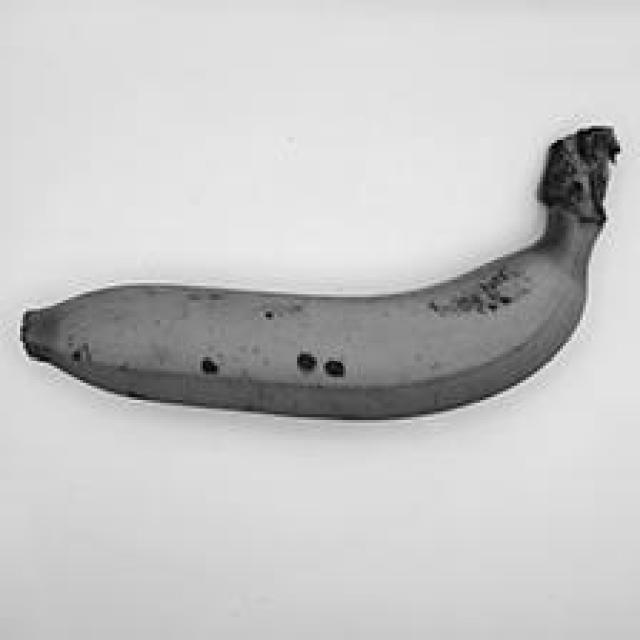Raw: (12, 112, 628, 426)
